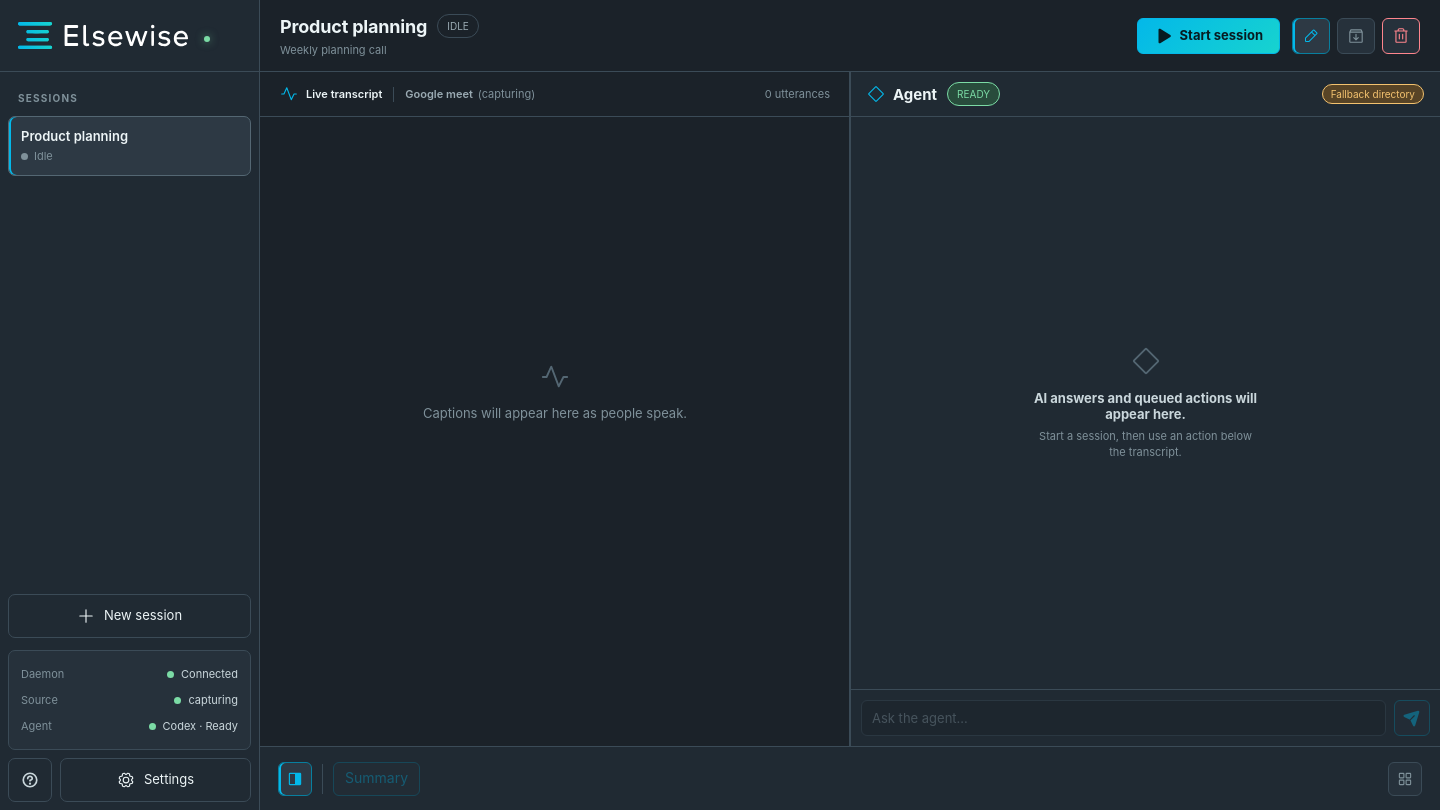
App settings › edits session data in a drawer only before the first start
Expected: the heading "Product planning" is shown, [280,16,427,36]
Click the button named "Edit session" at (1311, 36), box [1292,18,1330,54]
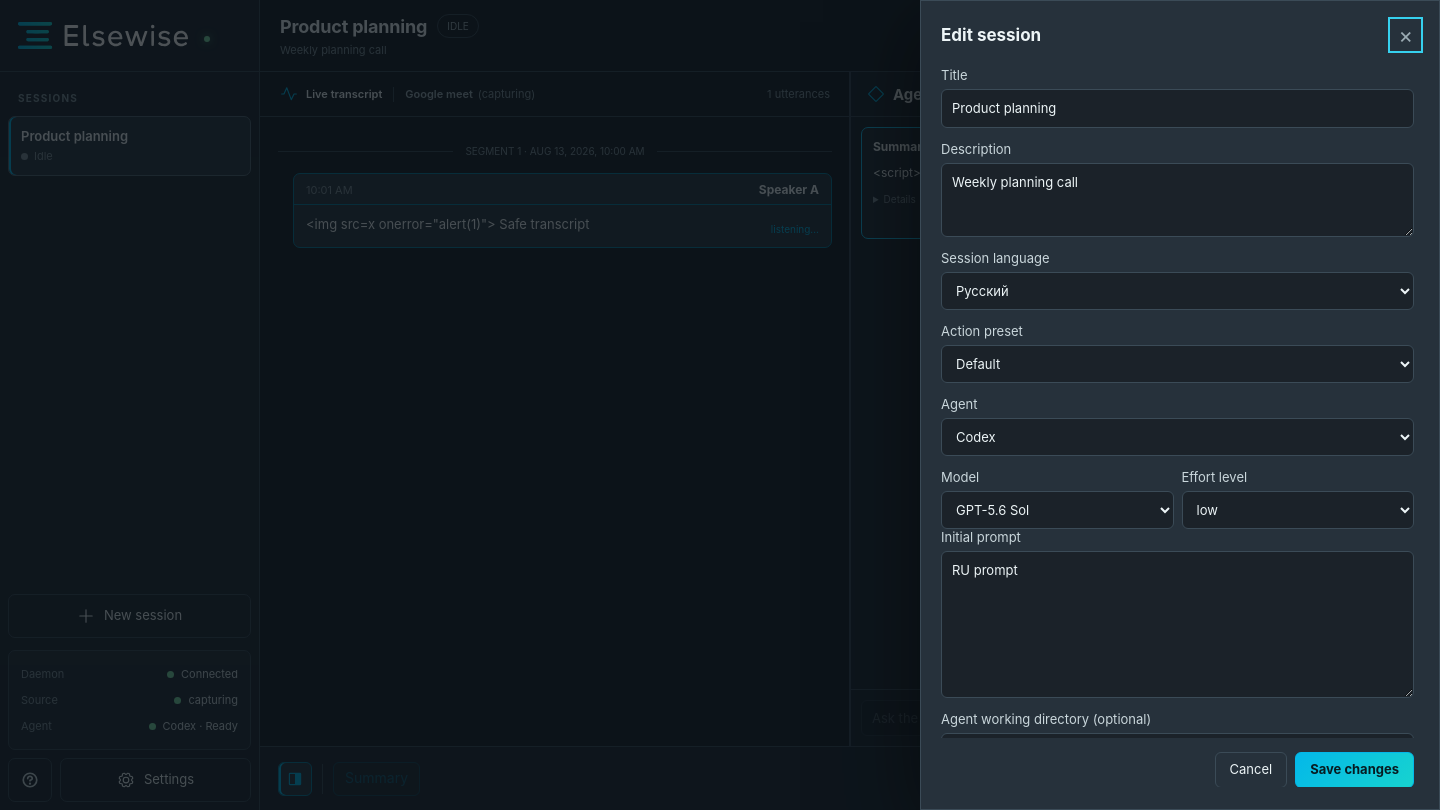
Result: the heading "Edit session" is shown at [941,25,1041,45]
Result: the field labelled "Title" holds "Product planning" at [941,89,1414,128]
Result: the dropdown labelled "Action preset" shows "Default" at [941,345,1414,383]
